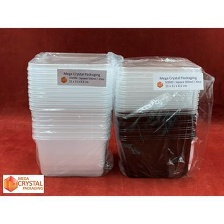plastic_box: (19, 45, 217, 183)
